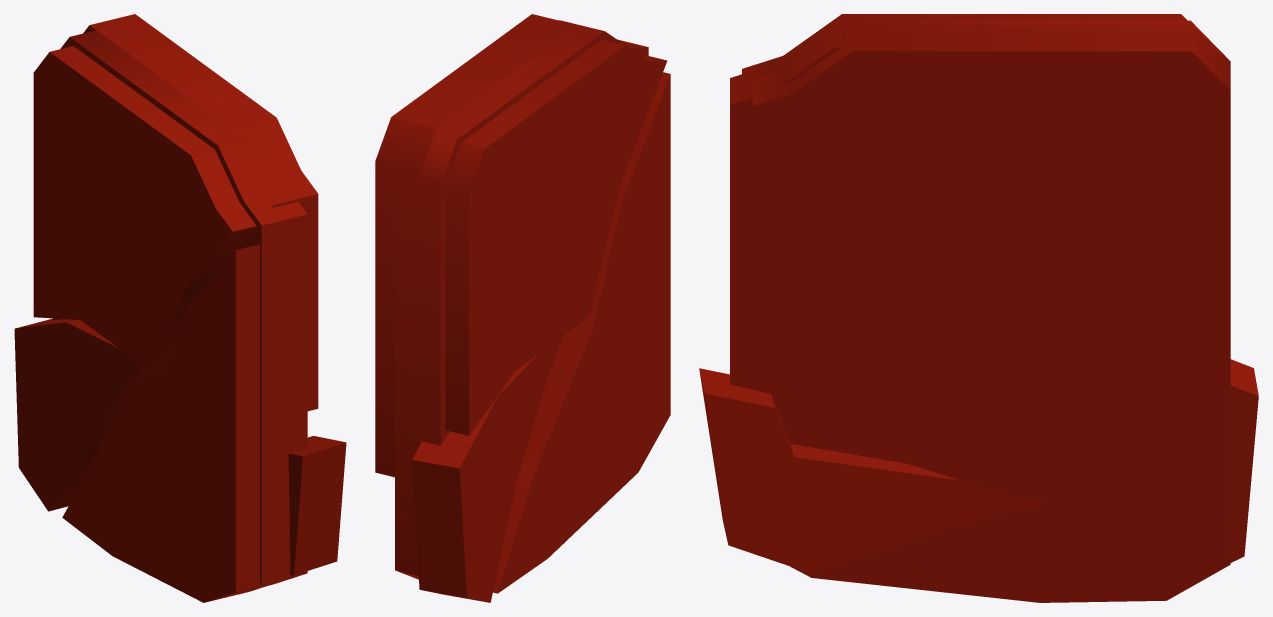
Rendered from SM_Panneau2.fbx.
3 renders of one model, left to right at view 1: azimuth 30°, elevation 25°; view 2: azimuth 150°, elevation 25°; view 3: azimuth 270°, elevation 25°, orthographic. The views are drawn at different scales.
Visible parts, largest first — view 1: Panneau2; view 2: Panneau2; view 3: Panneau2.
Boxes of the visible parts, x1=… form: Panneau2: x1=14, y1=14, x2=346, y2=602; Panneau2: x1=375, y1=14, x2=670, y2=602; Panneau2: x1=699, y1=14, x2=1258, y2=602.
Bounding box in the file's own units: 19.49 × 83.56 × 75.07.
